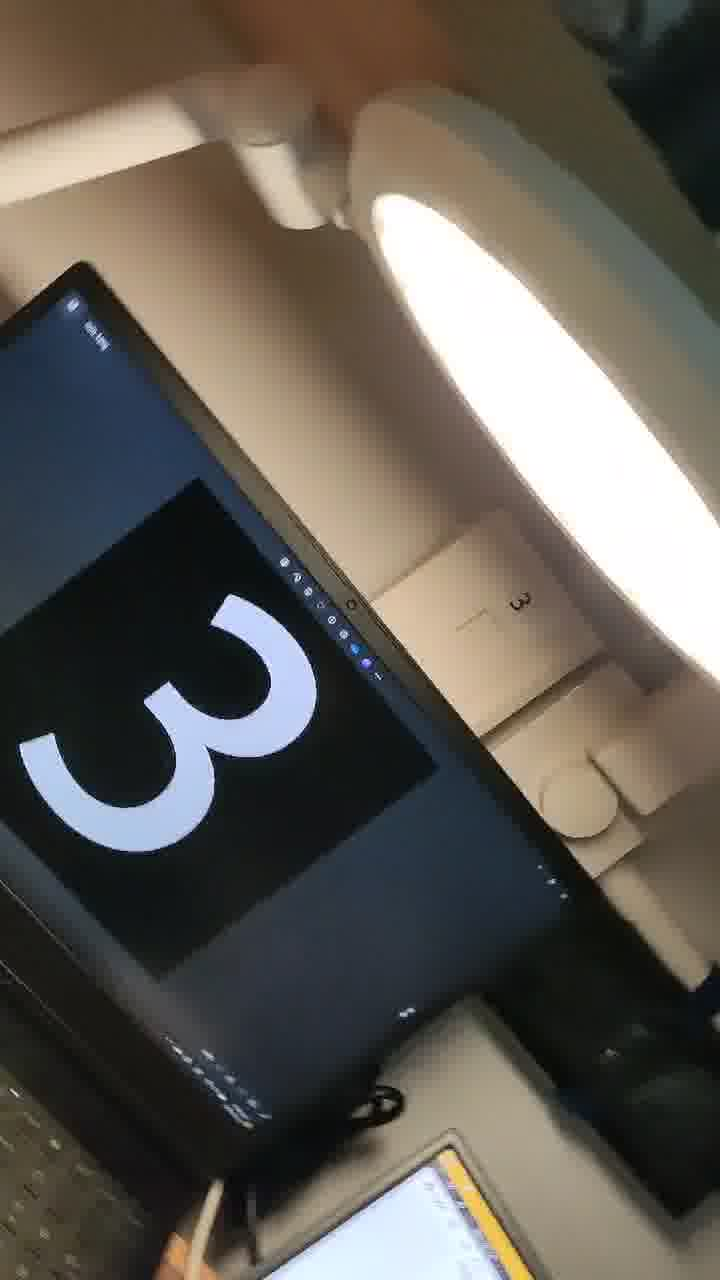three: (1, 586, 333, 934)
